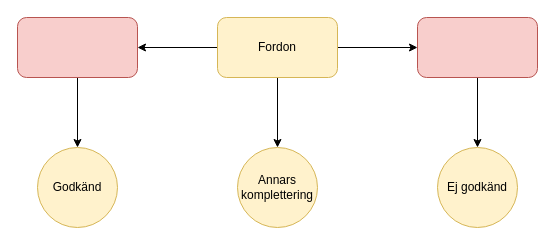
Image size: 555x245. Some labels were removed from this diagram. The box of each missing label's shape, as (x1, y1, x2, y2) in pixels:
om fordon<5år && giltig försäkring: (16, 16, 138, 78)
om fordon>5år && ingen giltig försäkring: (416, 16, 538, 78)
